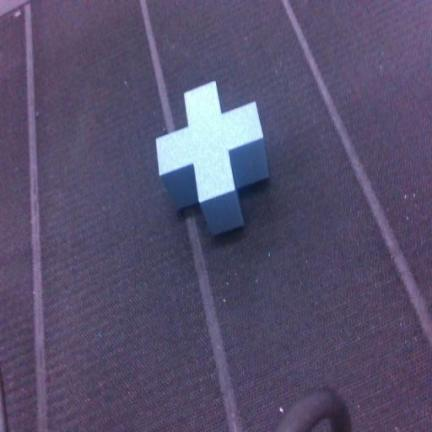cross: (157, 82, 268, 234)
